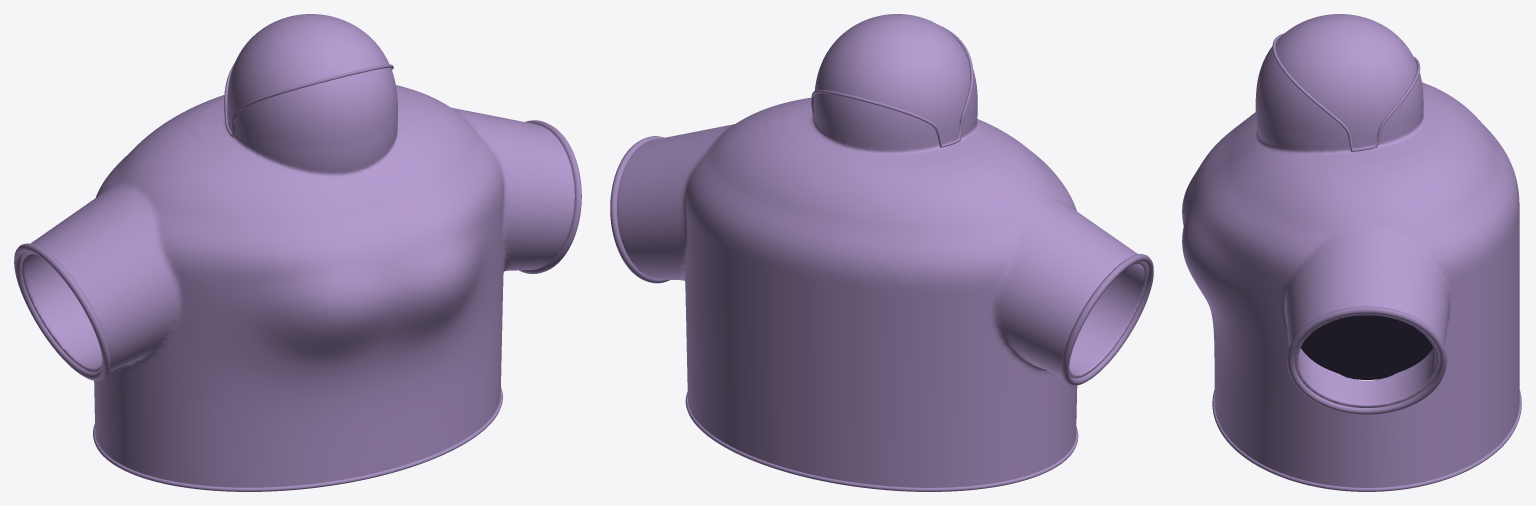
Rendered from Feminine-sweatshirt-top.glb.
The picture shows the model from 3 angles, left to right: view 1: azimuth 30°, elevation 25°; view 2: azimuth 150°, elevation 25°; view 3: azimuth 270°, elevation 25°; orthographic projection. The views are drawn at different scales.
Parts seen in each view (by area): view 1: Clothing / sweatshirt, Sleeve / open cuff -1 export, Shirt / hem export, Sleeve / open cuff 1 export, Neckline / seated binding export; view 2: Clothing / sweatshirt, Sleeve / open cuff -1 export, Shirt / hem export, Sleeve / open cuff 1 export, Neckline / seated binding export; view 3: Clothing / sweatshirt, Sleeve / recessed facing 1, Sleeve / open cuff 1 export, Shirt / hem export, Neckline / seated binding export.
Part boxes in pixels (bbox=[...]): Clothing / sweatshirt: bbox=[20, 14, 574, 487]; Sleeve / open cuff -1 export: bbox=[14, 243, 110, 380]; Shirt / hem export: bbox=[93, 387, 502, 491]; Sleeve / open cuff 1 export: bbox=[519, 120, 581, 273]; Neckline / seated binding export: bbox=[224, 63, 393, 137]; Clothing / sweatshirt: bbox=[617, 14, 1147, 487]; Sleeve / open cuff -1 export: bbox=[1061, 254, 1153, 385]; Shirt / hem export: bbox=[685, 392, 1078, 491]; Sleeve / open cuff 1 export: bbox=[610, 136, 669, 283]; Neckline / seated binding export: bbox=[811, 25, 973, 147]; Clothing / sweatshirt: bbox=[1182, 14, 1519, 487]; Sleeve / recessed facing 1: bbox=[1301, 315, 1433, 379]; Sleeve / open cuff 1 export: bbox=[1287, 306, 1447, 414]; Shirt / hem export: bbox=[1212, 390, 1521, 491]; Neckline / seated binding export: bbox=[1272, 33, 1420, 151].
Size of the model in its own units: 1.03 by 0.7719 by 0.6191.
